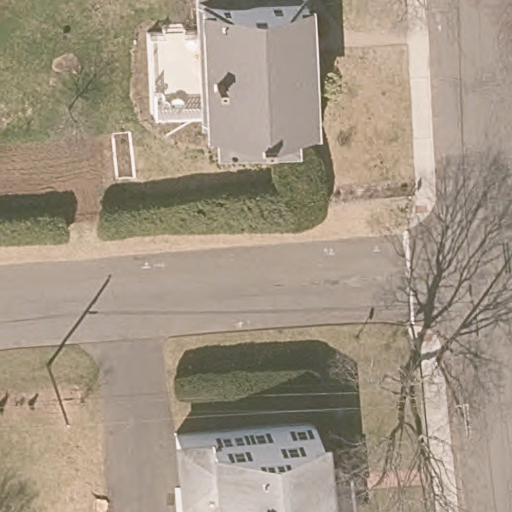DT: (436, 359, 473, 439), (45, 363, 71, 426)
